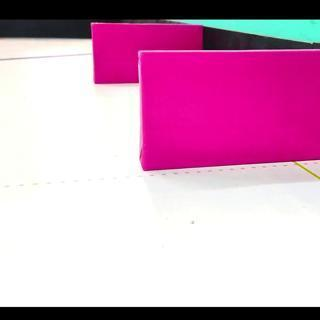xparking: (142, 51, 319, 172), (93, 24, 139, 84)
